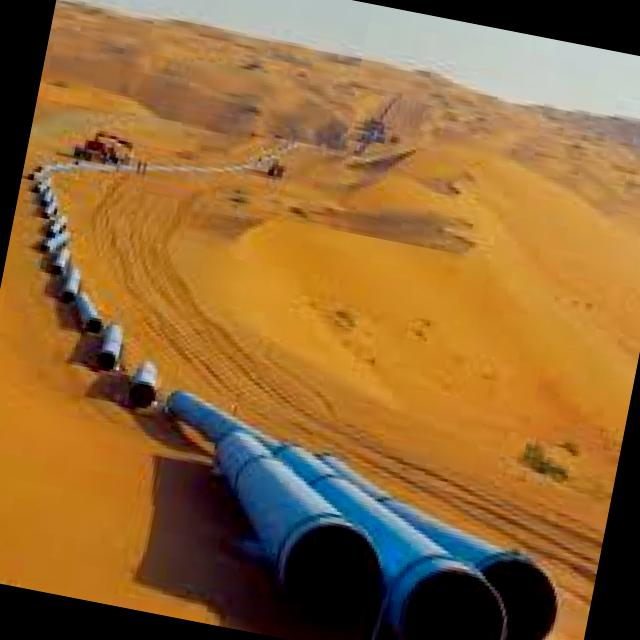gas: (282, 448, 506, 640), (217, 436, 382, 617), (381, 495, 557, 640), (169, 393, 251, 442)
